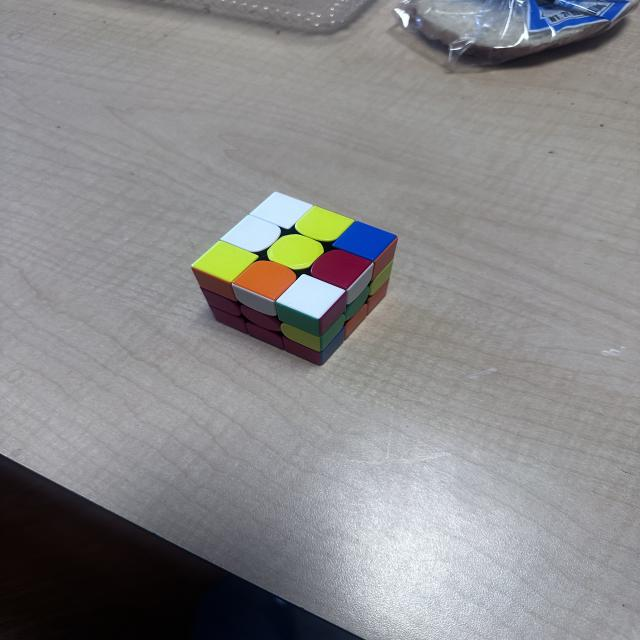sticker: (274, 272, 348, 336), (190, 240, 260, 301), (230, 259, 300, 318), (310, 249, 374, 297), (331, 219, 399, 264), (281, 315, 348, 359), (248, 191, 314, 232), (219, 214, 282, 254), (293, 205, 355, 244), (266, 233, 325, 273), (284, 333, 344, 367), (199, 285, 244, 324), (369, 233, 398, 279), (240, 303, 282, 334), (208, 302, 248, 334), (246, 319, 285, 350), (343, 301, 369, 341), (344, 283, 370, 323), (370, 258, 393, 298), (368, 277, 389, 312)
